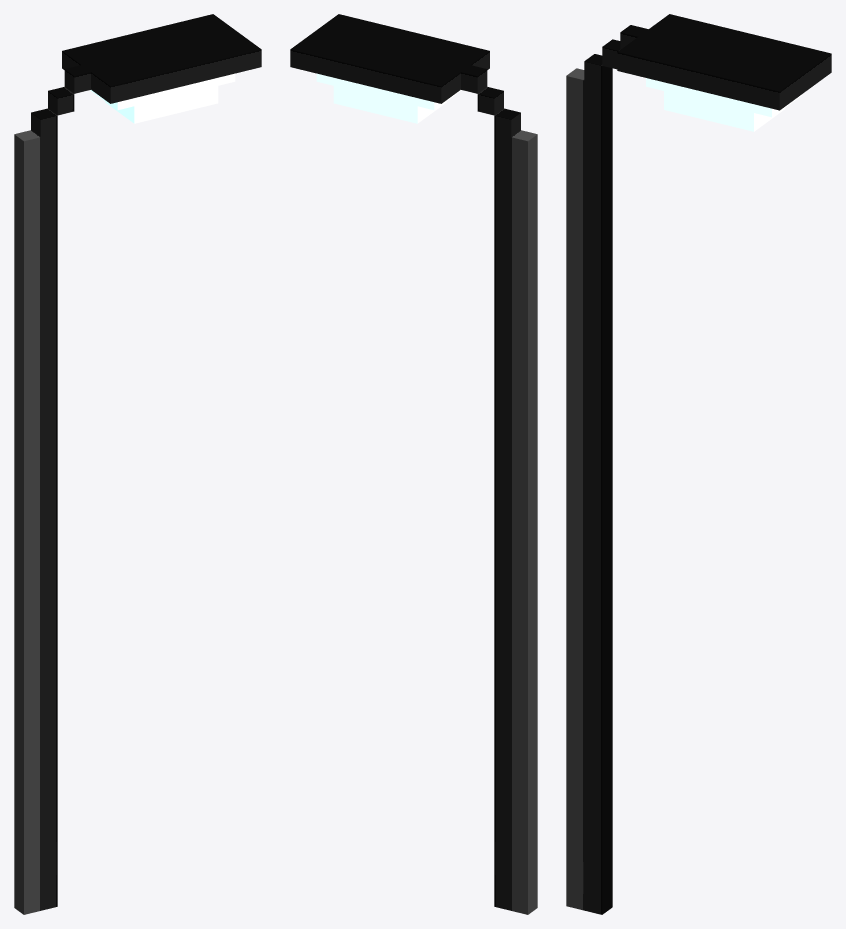
File: electric pole.glb
3 views of the same model, side by side, from view 1: azimuth 30°, elevation 25°; view 2: azimuth 150°, elevation 25°; view 3: azimuth 330°, elevation 25° (orthographic). The views are drawn at different scales.
Visible parts, largest first — view 1: light pole; view 2: light pole; view 3: light pole.
Part boxes in pixels (bbox=[...]): light pole: bbox=[14, 14, 261, 914]; light pole: bbox=[290, 14, 537, 914]; light pole: bbox=[566, 14, 831, 914].
Bounding box in the file's own units: 0.0694 × 0.251 × 0.0267.
Materials: 2 (1 with a texture image).
